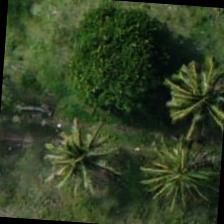Kelapa_Sawit: (31, 108, 127, 204), (133, 124, 223, 220), (156, 51, 223, 146)
